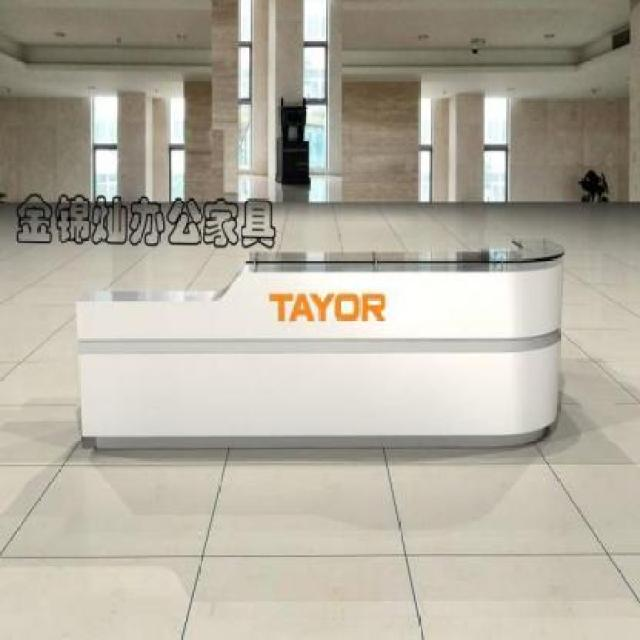frontdesk: (67, 228, 578, 467)
